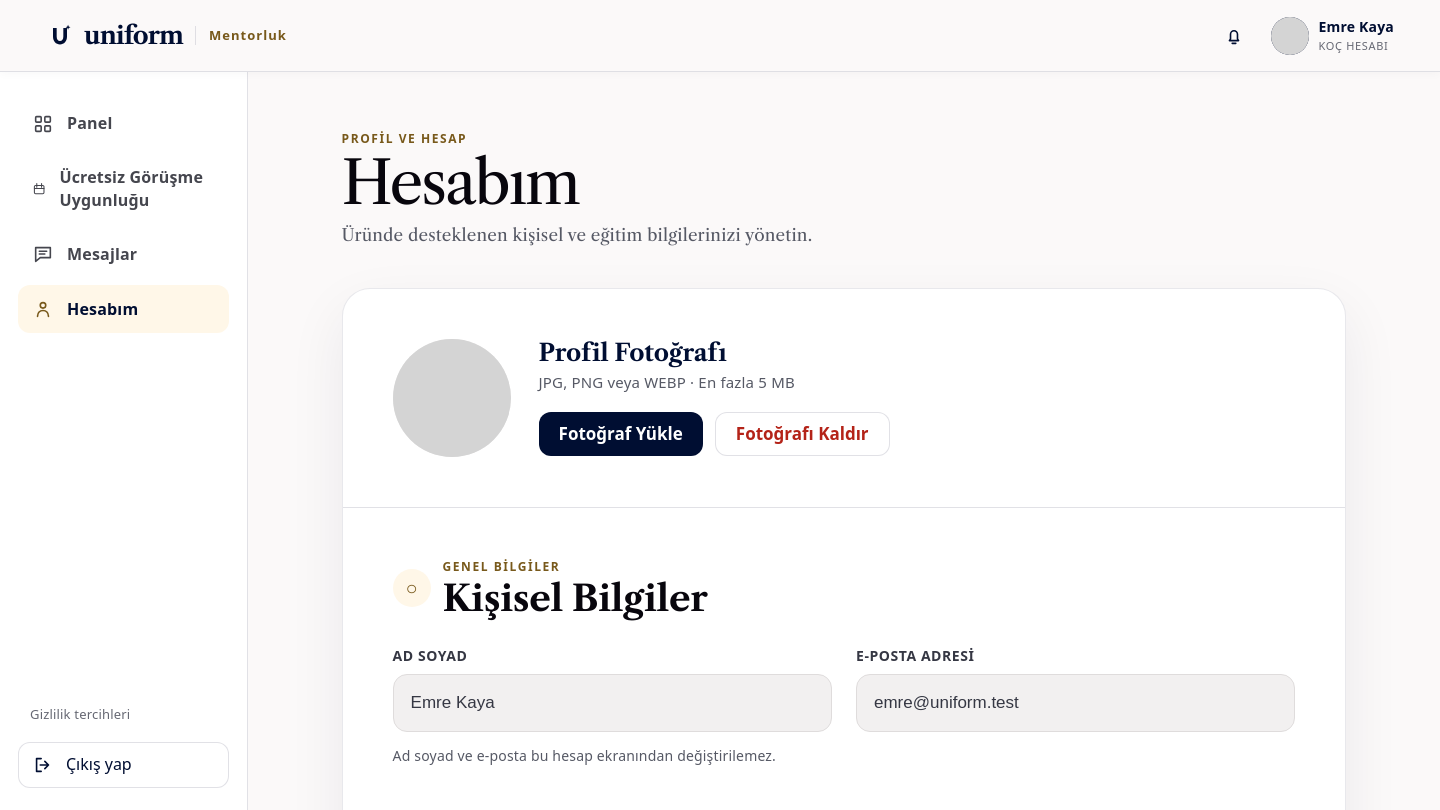
Test: shared role-aware account › keeps the coach removal modal and its error visible when deletion fails
The width and height of the screenshot is (1440, 810).
Click the button "Fotoğrafı Kaldır". click: (802, 434)
box: [715, 412, 890, 456]
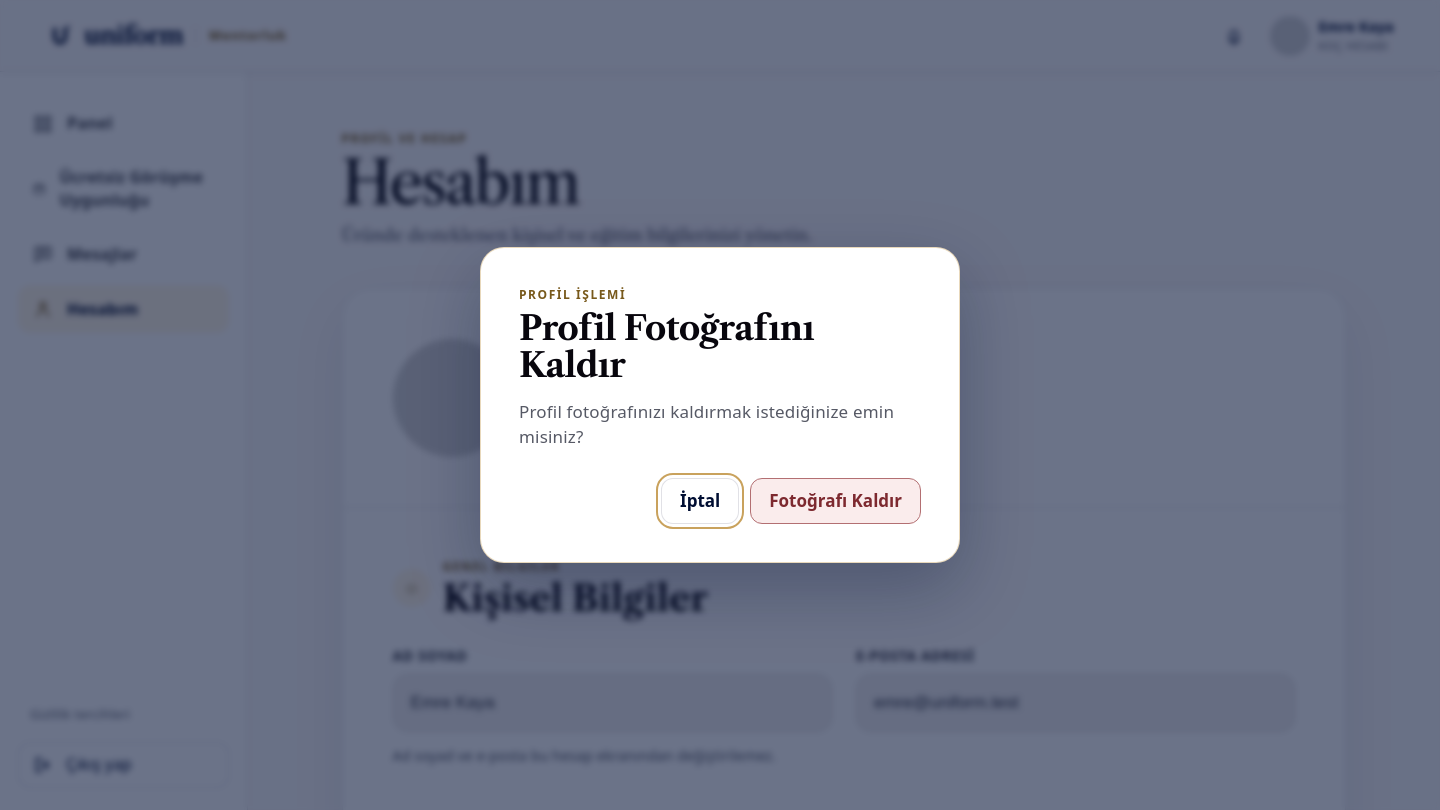
Click the button "Fotoğrafı Kaldır". click: (836, 501)
box: [750, 478, 921, 524]
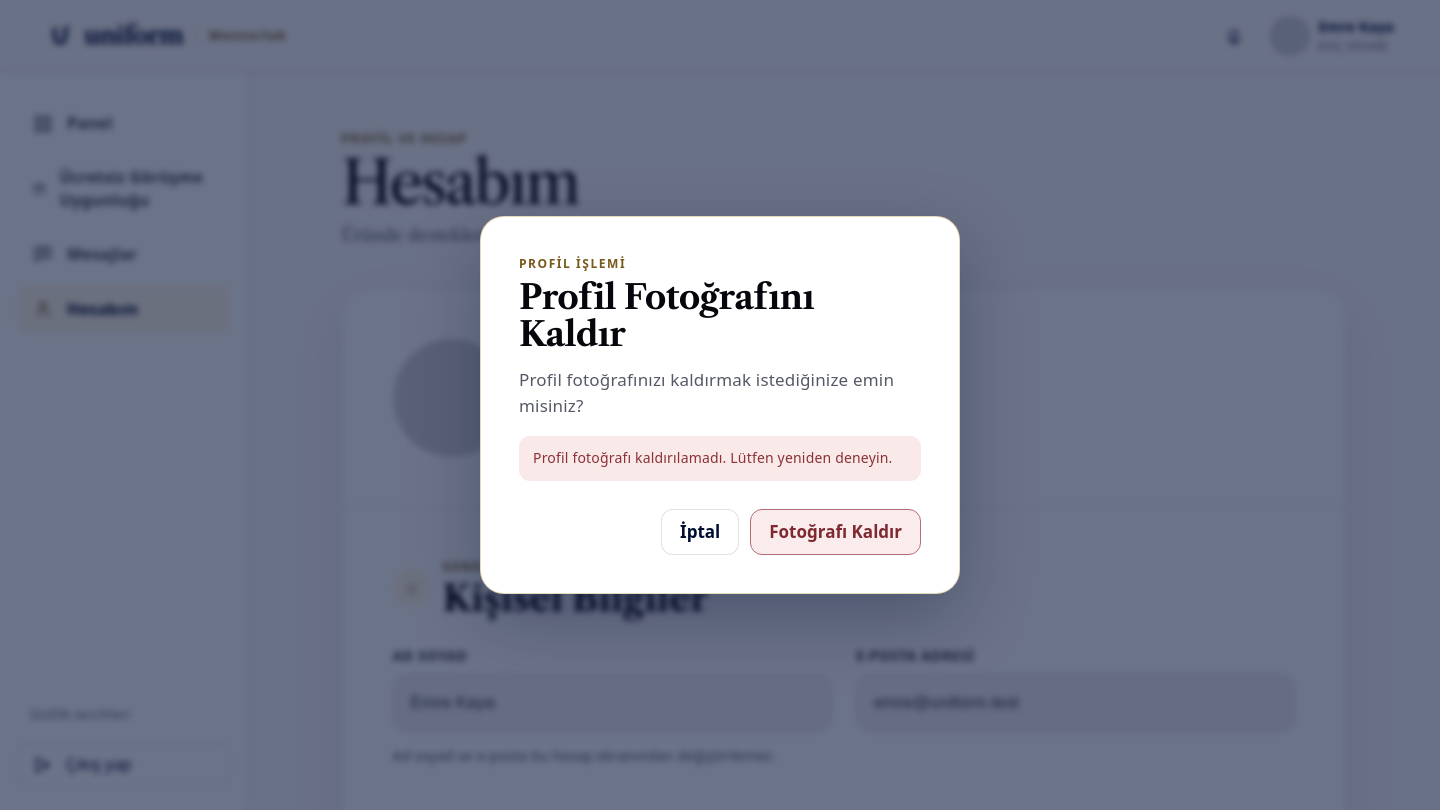
Expected: the dialog "Profil Fotoğrafını Kaldır" is shown, [480, 216, 960, 594]
Expected: the message reads "Profil fotoğrafı kaldırılamadı. Lütfen yeniden deneyin.", [533, 448, 892, 467]
